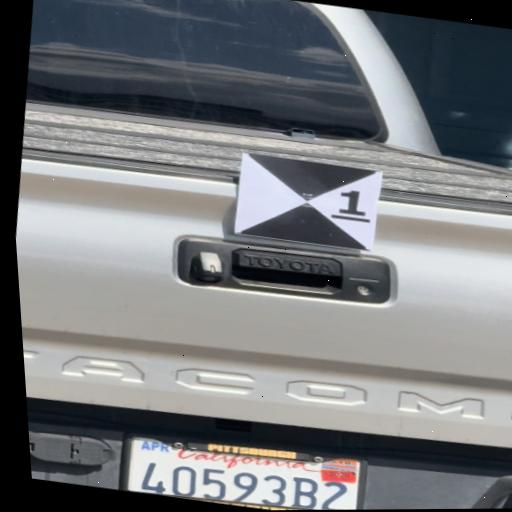target1: (233, 152, 383, 252)
